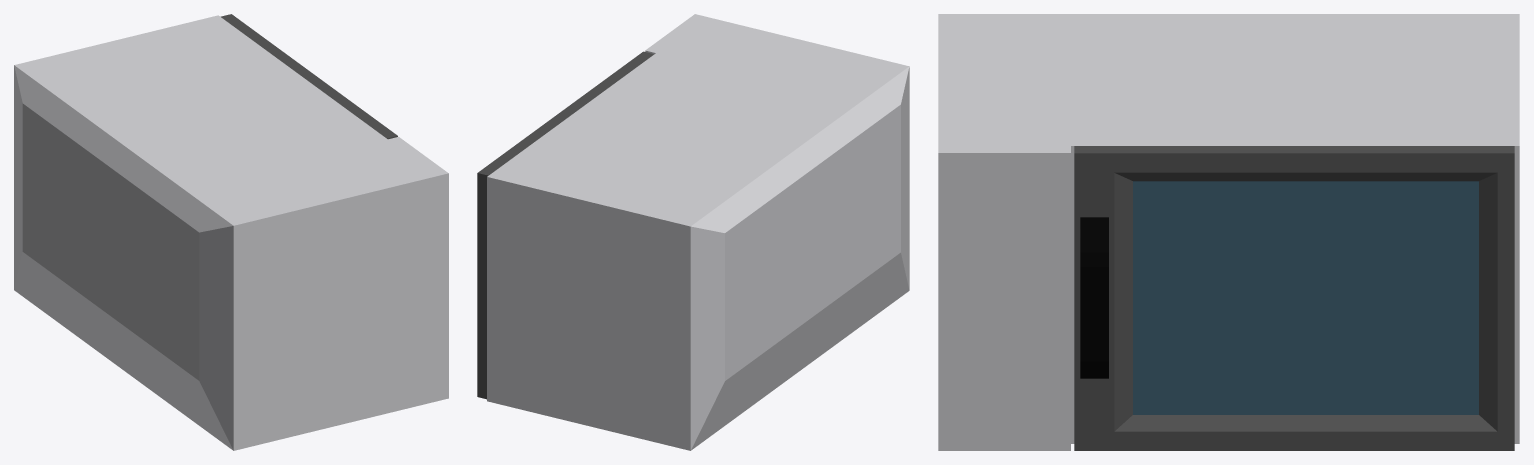
Rendered from Microwave.fbx.
The picture shows the model from 3 angles, left to right: view 1: azimuth 30°, elevation 25°; view 2: azimuth 150°, elevation 25°; view 3: azimuth 270°, elevation 25°; orthographic projection. The views are drawn at different scales.
Visible parts, largest first — view 1: Microwave, Door; view 2: Microwave, Door; view 3: Door, Microwave.
Boxes of the visible parts, left/top/right/bottom form: Microwave: left=14, top=15, right=448, bottom=450; Door: left=220, top=14, right=397, bottom=139; Microwave: left=487, top=14, right=909, bottom=450; Door: left=477, top=51, right=654, bottom=399; Door: left=1074, top=146, right=1514, bottom=450; Microwave: left=938, top=14, right=1519, bottom=450.
Size of the model in its own units: 246 by 200 by 353.
